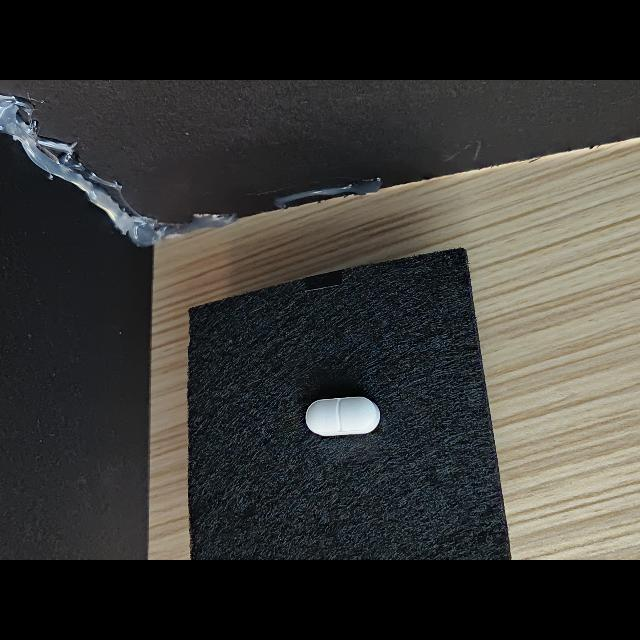Intact Pill: (306, 397, 380, 436)
